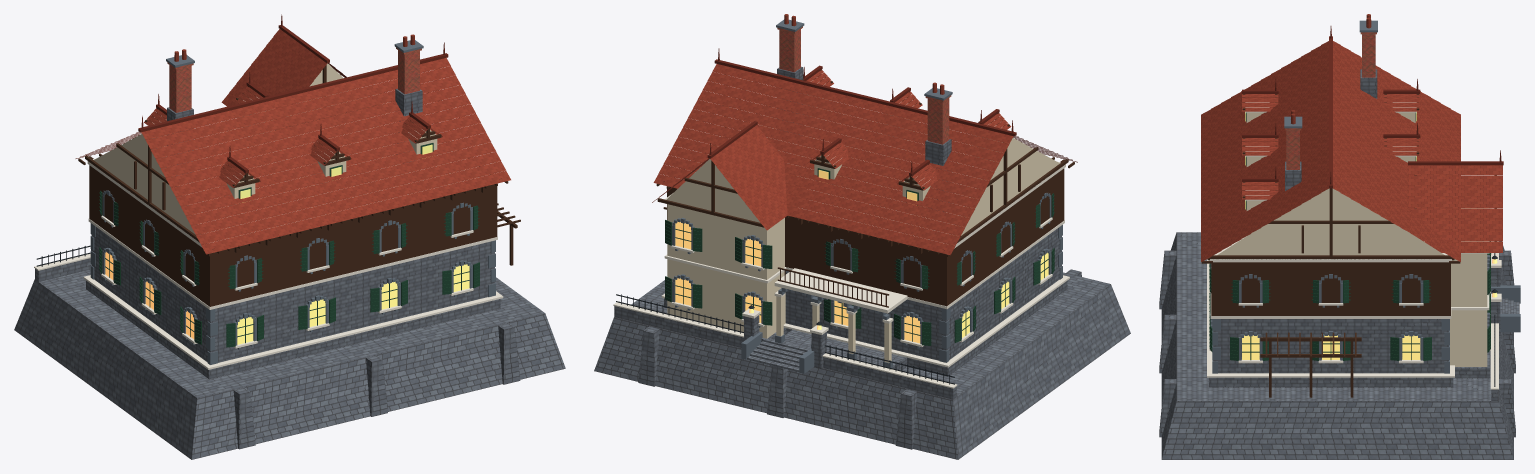
File: fv_lhp_07_villa_dhiver_02_ngo_thi_sy_savoy_manor.glb
3 renders of one model, left to right at view 1: azimuth 30°, elevation 25°; view 2: azimuth 150°, elevation 25°; view 3: azimuth 270°, elevation 25°, orthographic. The views are drawn at different scales.
Parts seen in each view (by area): view 1: Foundation_Skirt_Neg3p5m, Normandy_Brittany_Layered_Roof, Exposed_Timber_Trusses_And_Rafters, Molded_Cornices_And_Sills, PineGreen_Louvered_Shutters, Stone_Quoins_And_Arches, Villa_Stucco_Walls, Roof_Ridges_Caps_And_Finials, Warm_Night_Windows_20h00_Blend, Brick_Chimney_Stacks; view 2: Foundation_Skirt_Neg3p5m, Normandy_Brittany_Layered_Roof, Exposed_Timber_Trusses_And_Rafters, Villa_Stucco_Walls, Molded_Cornices_And_Sills, Stone_Quoins_And_Arches, PineGreen_Louvered_Shutters, Warm_Night_Windows_20h00_Blend, Roof_Ridges_Caps_And_Finials, Brick_Chimney_Stacks, Wrought_Iron_Balustrades_And_Gate; view 3: Foundation_Skirt_Neg3p5m, Normandy_Brittany_Layered_Roof, Exposed_Timber_Trusses_And_Rafters, Villa_Stucco_Walls, Molded_Cornices_And_Sills, Stone_Quoins_And_Arches, PineGreen_Louvered_Shutters, Roof_Ridges_Caps_And_Finials, Warm_Night_Windows_20h00_Blend, Brick_Chimney_Stacks.
Part boxes in pixels (bbox=[...]): Foundation_Skirt_Neg3p5m: bbox=[14, 88, 565, 459]; Normandy_Brittany_Layered_Roof: bbox=[141, 29, 510, 254]; Exposed_Timber_Trusses_And_Rafters: bbox=[78, 65, 520, 306]; Molded_Cornices_And_Sills: bbox=[34, 95, 503, 369]; PineGreen_Louvered_Shutters: bbox=[99, 143, 479, 347]; Stone_Quoins_And_Arches: bbox=[90, 40, 495, 364]; Villa_Stucco_Walls: bbox=[94, 63, 437, 234]; Roof_Ridges_Caps_And_Finials: bbox=[75, 14, 448, 181]; Warm_Night_Windows_20h00_Blend: bbox=[105, 144, 469, 344]; Brick_Chimney_Stacks: bbox=[167, 47, 421, 112]; Foundation_Skirt_Neg3p5m: bbox=[594, 66, 1130, 459]; Normandy_Brittany_Layered_Roof: bbox=[653, 14, 1013, 255]; Exposed_Timber_Trusses_And_Rafters: bbox=[656, 70, 1074, 307]; Villa_Stucco_Walls: bbox=[666, 94, 1059, 362]; Molded_Cornices_And_Sills: bbox=[613, 80, 1069, 388]; Stone_Quoins_And_Arches: bbox=[672, 19, 1062, 373]; PineGreen_Louvered_Shutters: bbox=[665, 168, 1054, 345]; Warm_Night_Windows_20h00_Blend: bbox=[675, 170, 1048, 343]; Roof_Ridges_Caps_And_Finials: bbox=[652, 48, 1077, 202]; Brick_Chimney_Stacks: bbox=[777, 26, 951, 144]; Wrought_Iron_Balustrades_And_Gate: bbox=[616, 294, 954, 384]; Foundation_Skirt_Neg3p5m: bbox=[1159, 69, 1519, 459]; Normandy_Brittany_Layered_Roof: bbox=[1201, 14, 1502, 261]; Exposed_Timber_Trusses_And_Rafters: bbox=[1201, 94, 1496, 397]; Villa_Stucco_Walls: bbox=[1217, 112, 1487, 366]; Molded_Cornices_And_Sills: bbox=[1207, 102, 1501, 389]; Stone_Quoins_And_Arches: bbox=[1210, 20, 1520, 373]; PineGreen_Louvered_Shutters: bbox=[1209, 112, 1490, 360]; Roof_Ridges_Caps_And_Finials: bbox=[1242, 26, 1503, 188]; Warm_Night_Windows_20h00_Blend: bbox=[1242, 112, 1497, 359]; Brick_Chimney_Stacks: bbox=[1285, 32, 1376, 169].
Size of the model in its own units: 26.32 by 20.4 by 21.72.
12 materials, 3 textured.
